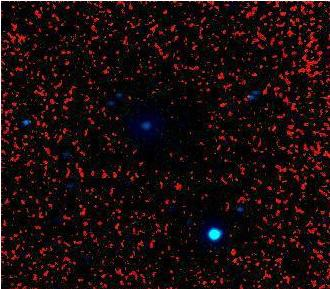star: (58, 168, 88, 198)
